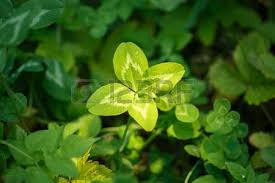4-clover: (87, 42, 185, 130)
